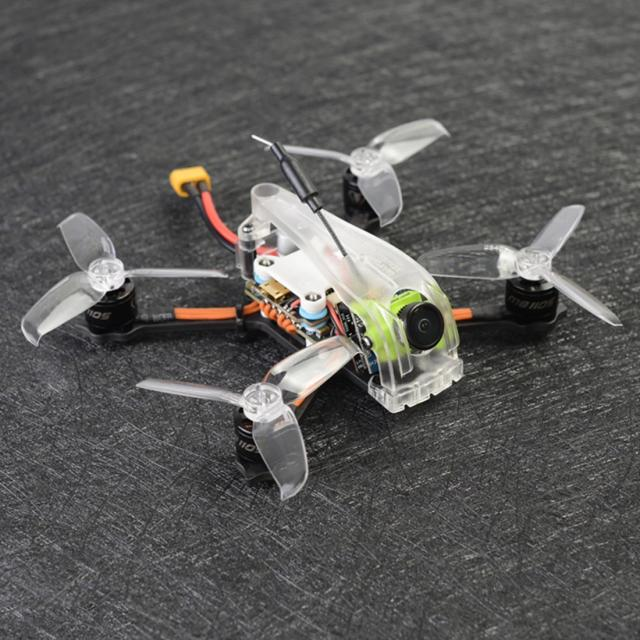drone: (0, 114, 636, 514)
